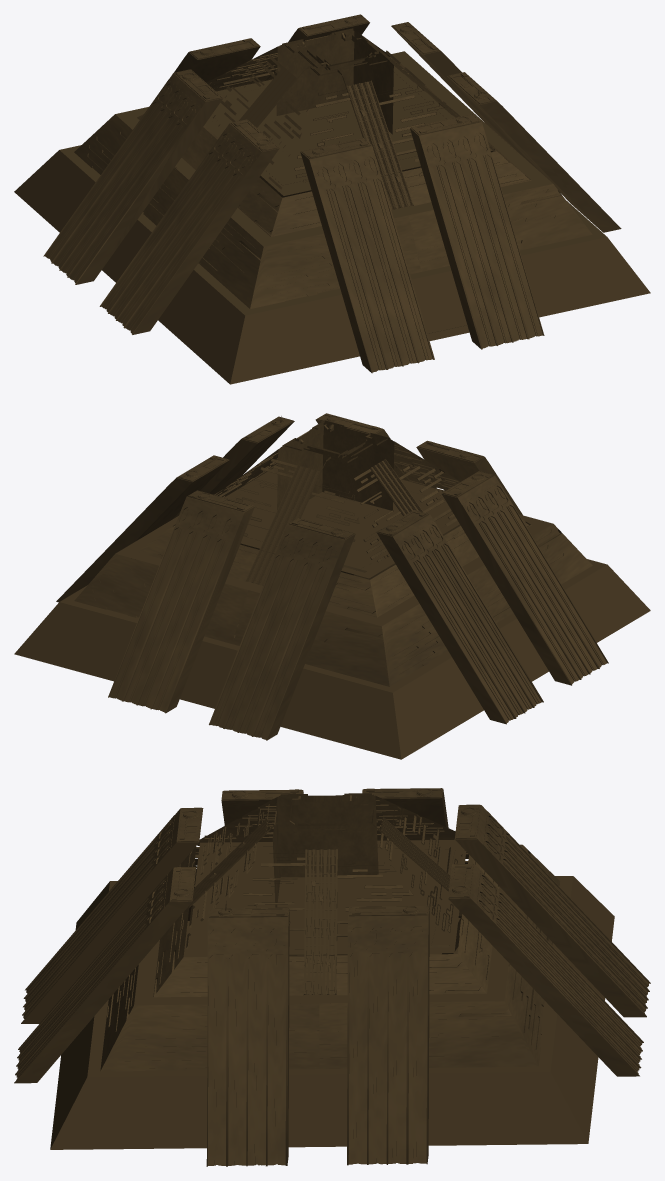
Rendered from Tyrell_Pyramid_v3.glb.
3 views of the same model, one above another, from view 1: azimuth 30°, elevation 25°; view 2: azimuth 150°, elevation 25°; view 3: azimuth 270°, elevation 25° (orthographic). The views are drawn at different scales.
Parts seen in each view (by area): view 1: Tyrell_Pyramid_v1, Piramide | prolongacion v3, Piramide | carriles ascensor; view 2: Tyrell_Pyramid_v1, Piramide | prolongacion v3, Piramide | carriles ascensor; view 3: Tyrell_Pyramid_v1, Piramide | prolongacion v3, Piramide | carriles ascensor.
Part boxes in pixels (x1,y1,x2,y2): Tyrell_Pyramid_v1: [43, 14, 621, 373]; Piramide | prolongacion v3: [14, 51, 650, 384]; Piramide | carriles ascensor: [239, 47, 460, 209]; Tyrell_Pyramid_v1: [56, 413, 608, 740]; Piramide | prolongacion v3: [14, 463, 650, 759]; Piramide | carriles ascensor: [227, 454, 423, 585]; Tyrell_Pyramid_v1: [14, 788, 650, 1166]; Piramide | prolongacion v3: [50, 838, 614, 1149]; Piramide | carriles ascensor: [183, 817, 450, 994].
Size of the model in its own units: 269 by 109 by 269.
4 materials, 4 textured.
